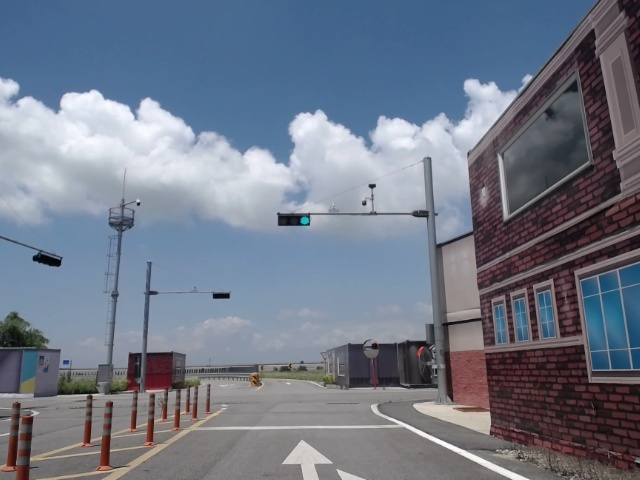green_3: (278, 216, 310, 226)
